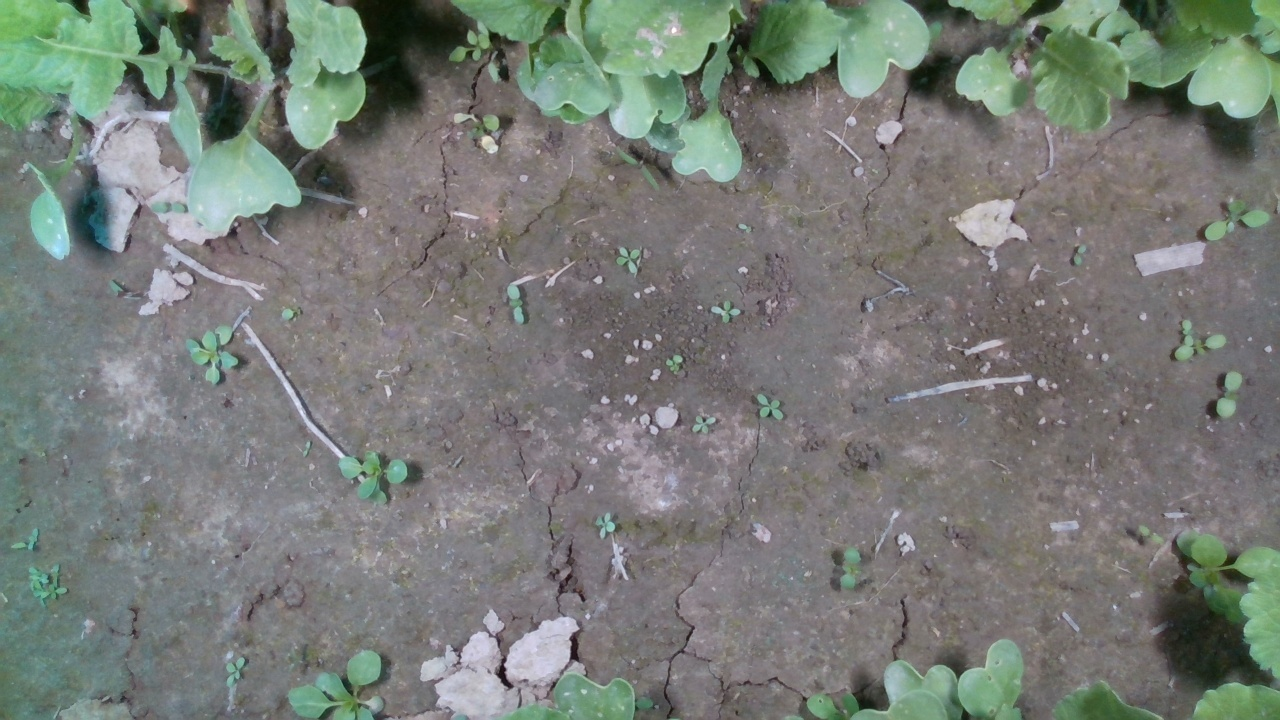weed: (1204, 198, 1272, 240), (1216, 368, 1245, 421), (838, 544, 861, 594), (504, 282, 527, 327), (707, 298, 742, 325), (755, 393, 785, 420), (616, 244, 642, 274), (593, 510, 616, 541), (1135, 524, 1164, 547), (224, 656, 247, 685), (691, 413, 719, 436)
